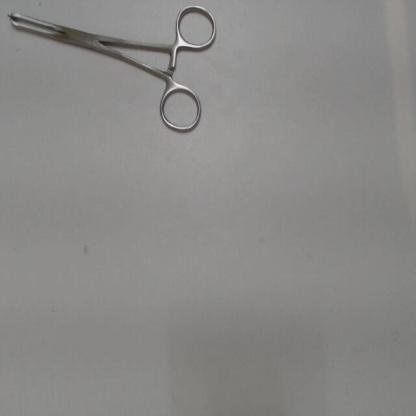Allis Tissue Forceps: (1, 3, 223, 141)
